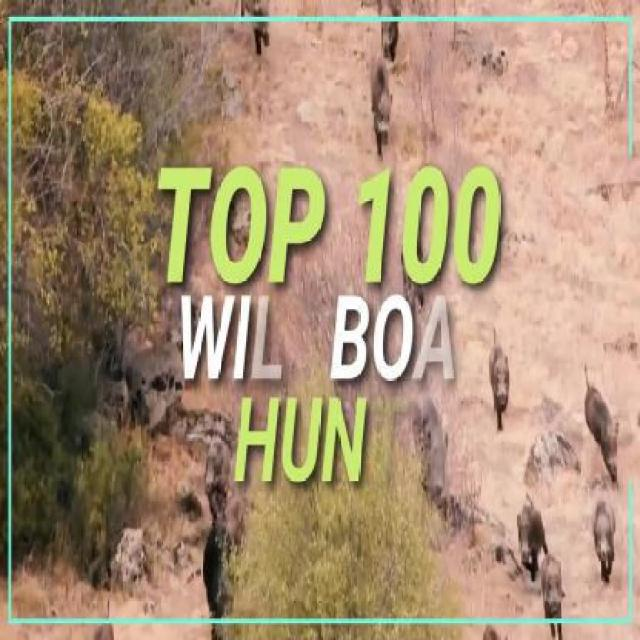WildBoar: (572, 368, 639, 497), (360, 51, 411, 169), (485, 303, 529, 439), (566, 497, 623, 575), (233, 0, 281, 58), (542, 555, 578, 630), (364, 0, 406, 58), (515, 504, 551, 570)
